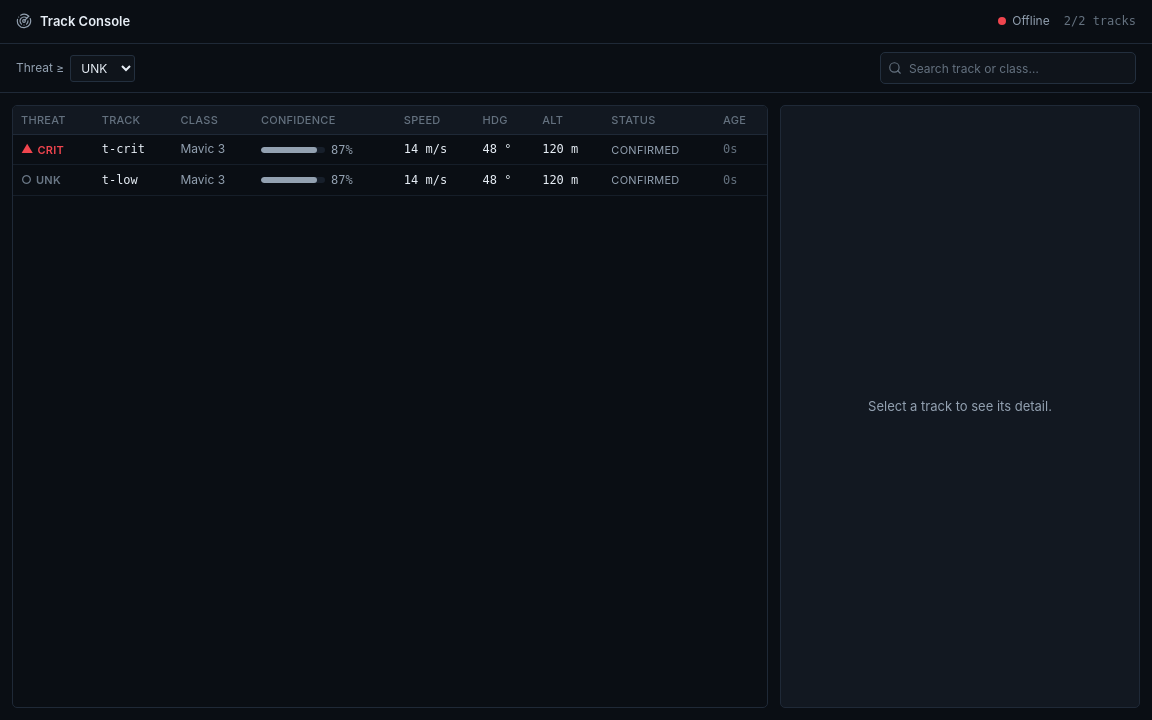
it: TracksPage › filters the queue by the threat floor
Check: the text "t-crit" is shown, box top-left (94, 134), bottom-right (172, 165)
Select "HIGH" in the dropdown named "Minimum threat level" at {"x": 103, "y": 68}, box top-left (70, 54), bottom-right (135, 82)
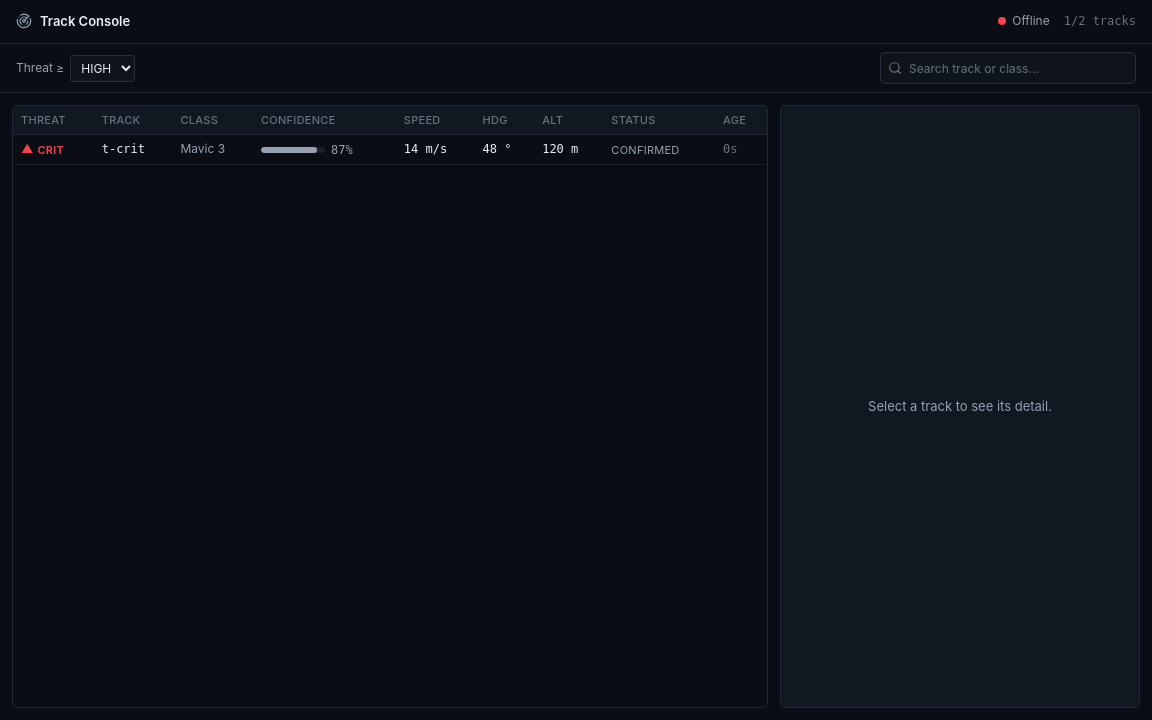
Check: the text "t-crit" is shown, box top-left (94, 134), bottom-right (172, 165)
Check: the text "t-low" is gone
